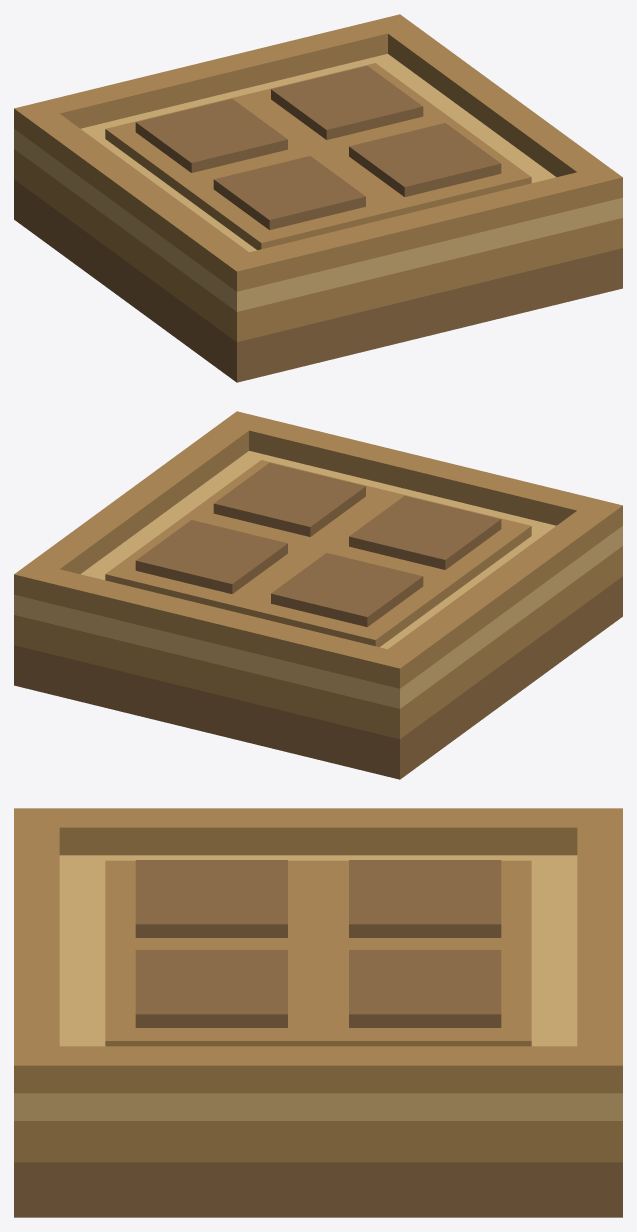
Rendered from TileBrownLarge.obj.
3 views of the same model, one above another, from view 1: azimuth 30°, elevation 25°; view 2: azimuth 150°, elevation 25°; view 3: azimuth 270°, elevation 25° (orthographic). The views are drawn at different scales.
Bounding box in the file's own units: 4 × 1.1 × 4.
1 material, 1 textured.
